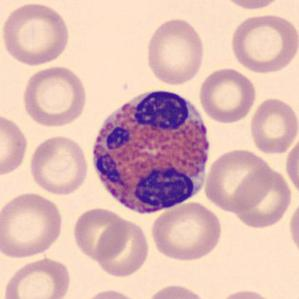Eosinophil: (85, 80, 217, 222)
RBC: (202, 147, 275, 214), (148, 199, 224, 262), (0, 1, 72, 67), (19, 64, 89, 129), (0, 190, 65, 260), (228, 11, 298, 75), (144, 16, 207, 87), (27, 133, 90, 196), (232, 165, 293, 230), (197, 66, 257, 124), (94, 218, 151, 278), (72, 205, 130, 262), (1, 256, 73, 299), (247, 96, 298, 156), (0, 110, 30, 179), (144, 282, 209, 299), (283, 133, 299, 198), (216, 0, 287, 12), (286, 196, 299, 259), (216, 287, 278, 299), (81, 287, 142, 299)
